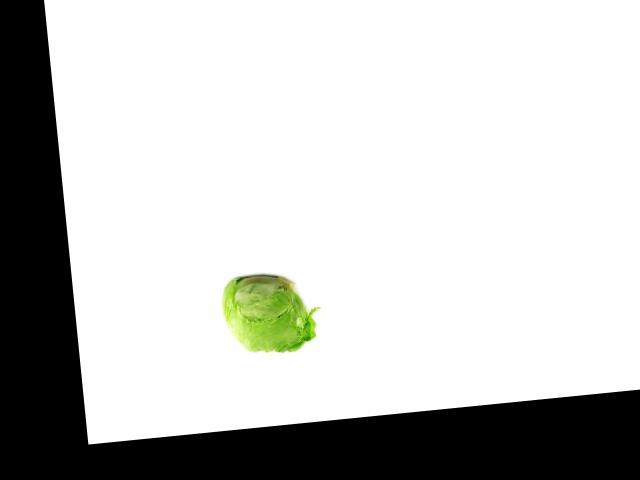lettuce: (216, 266, 315, 362)
